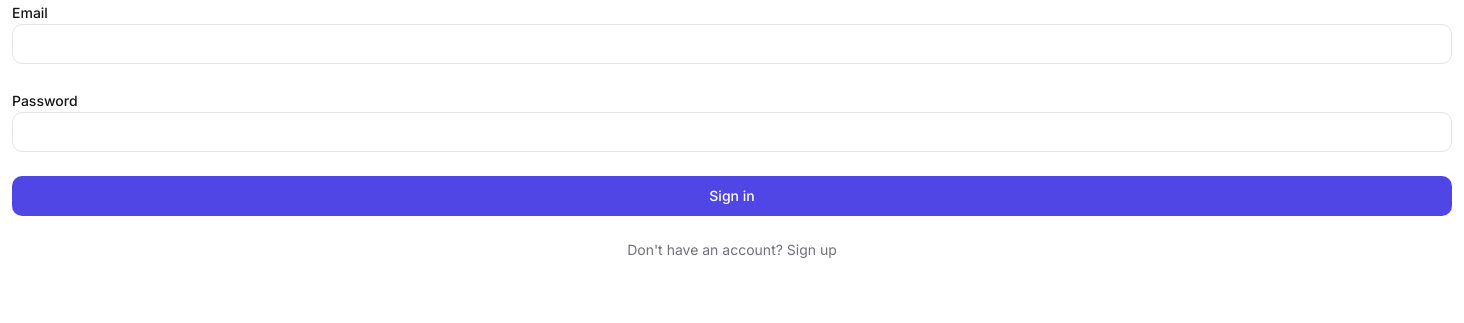
Scenario: CredentialsSignInForm › shows the error returned by the server
Type "ana@example.com" into the field labelled "Email" at (732, 44), box [12,24,1452,64]
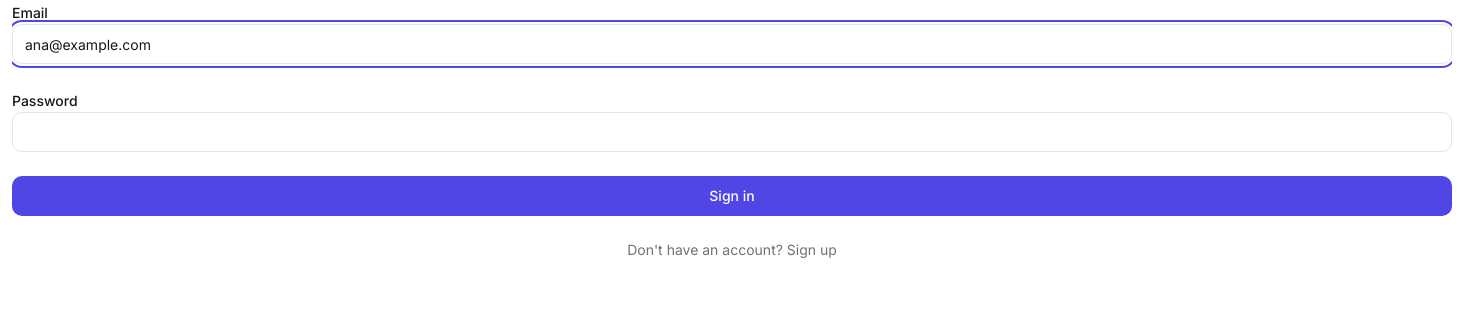
Type "wrong-pass" into the password field labelled "Password" at (732, 132), box [12,112,1452,152]
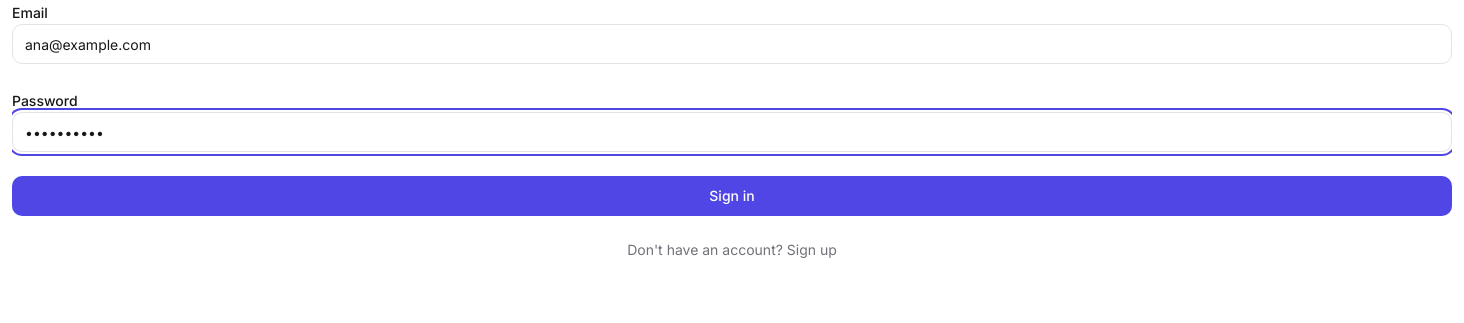
Click the button "Sign in" at (732, 196), box [12,176,1452,216]
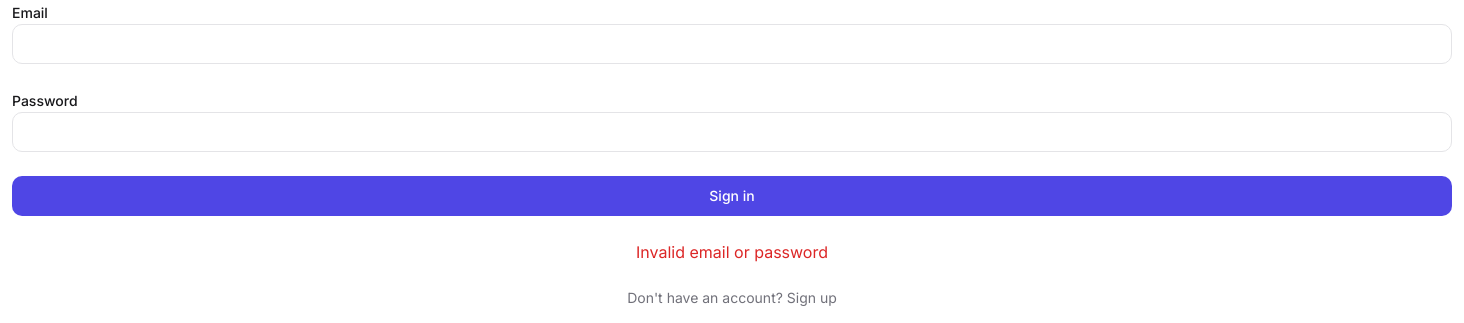
expect the text "Invalid email or password" is shown: met, box [636,242,828,262]
